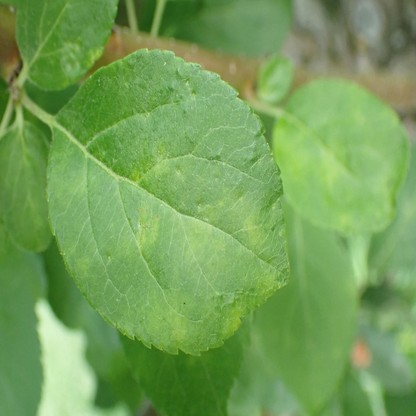scab: (148, 265, 191, 339), (49, 135, 87, 200), (182, 218, 223, 258), (133, 145, 166, 181), (136, 200, 159, 246), (103, 239, 133, 265), (195, 197, 223, 214), (85, 46, 102, 66), (244, 220, 259, 241), (174, 161, 186, 180), (74, 258, 90, 272)
